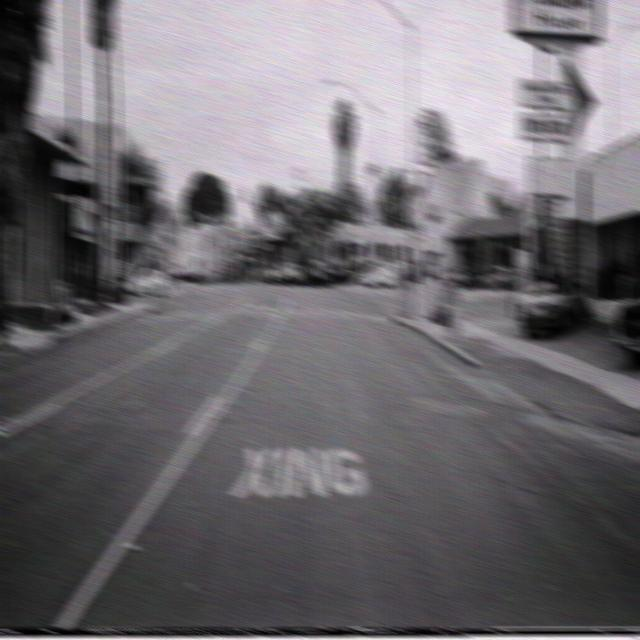pedestrianCrossing: (402, 188, 422, 219)
